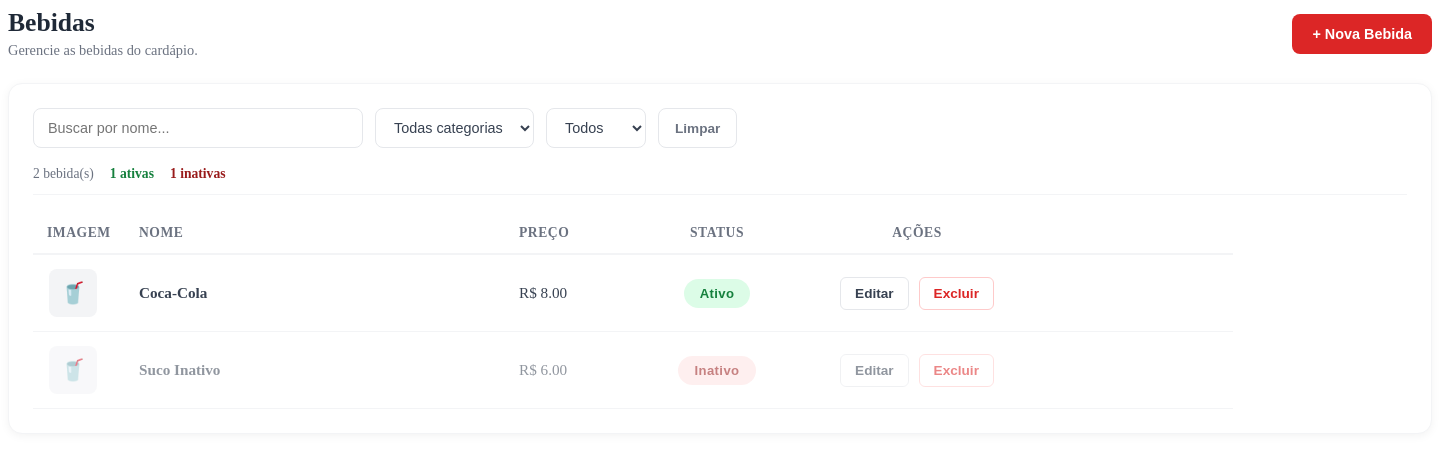
Test: AdminBebidas › botão Limpar reseta os filtros
Expected: the text "Coca-Cola" is shown, x1=117 y1=254 x2=497 y2=332
Type "suco" into the field with placeholder "Buscar por nome...". click: (198, 128)
box: x1=33 y1=108 x2=363 y2=148
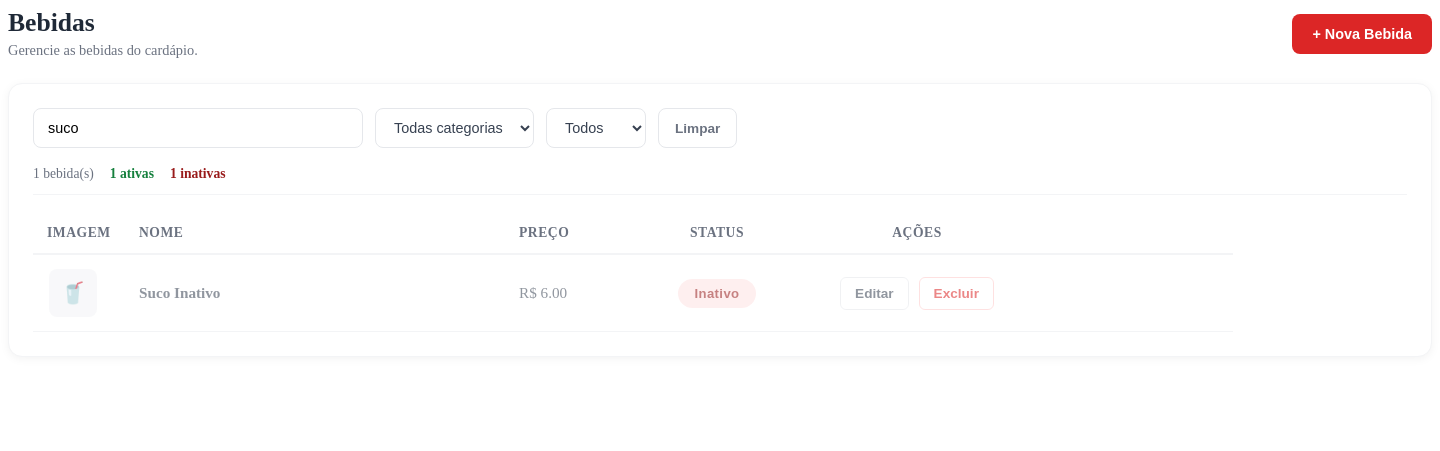
Click the button "Limpar". click: (698, 128)
box: x1=658 y1=108 x2=737 y2=148
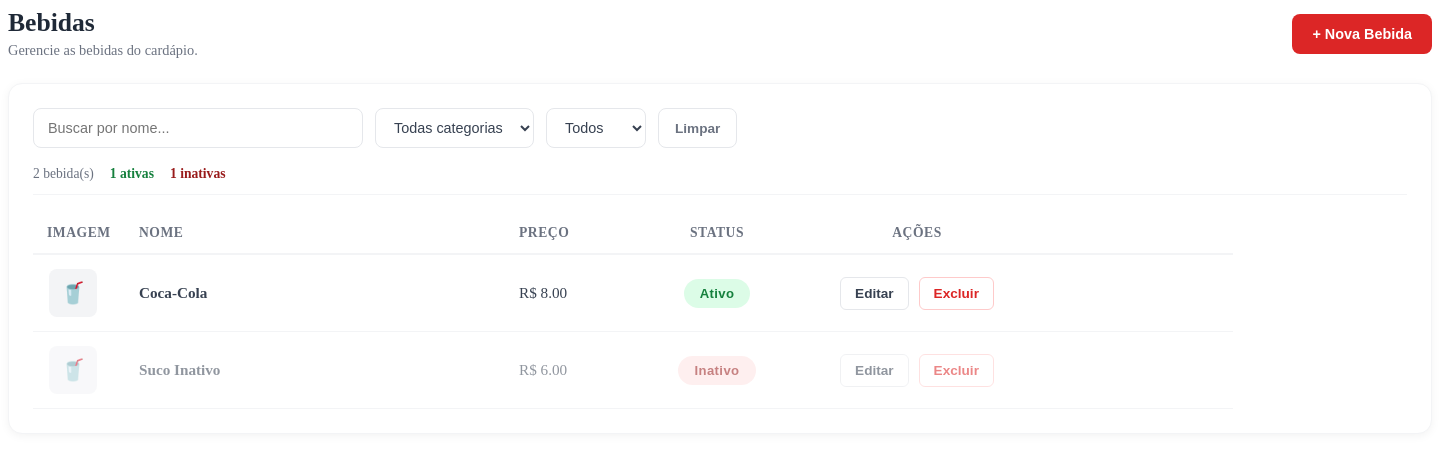
Expected: the text "2 bebida(s)" is shown, x1=33 y1=166 x2=94 y2=182
